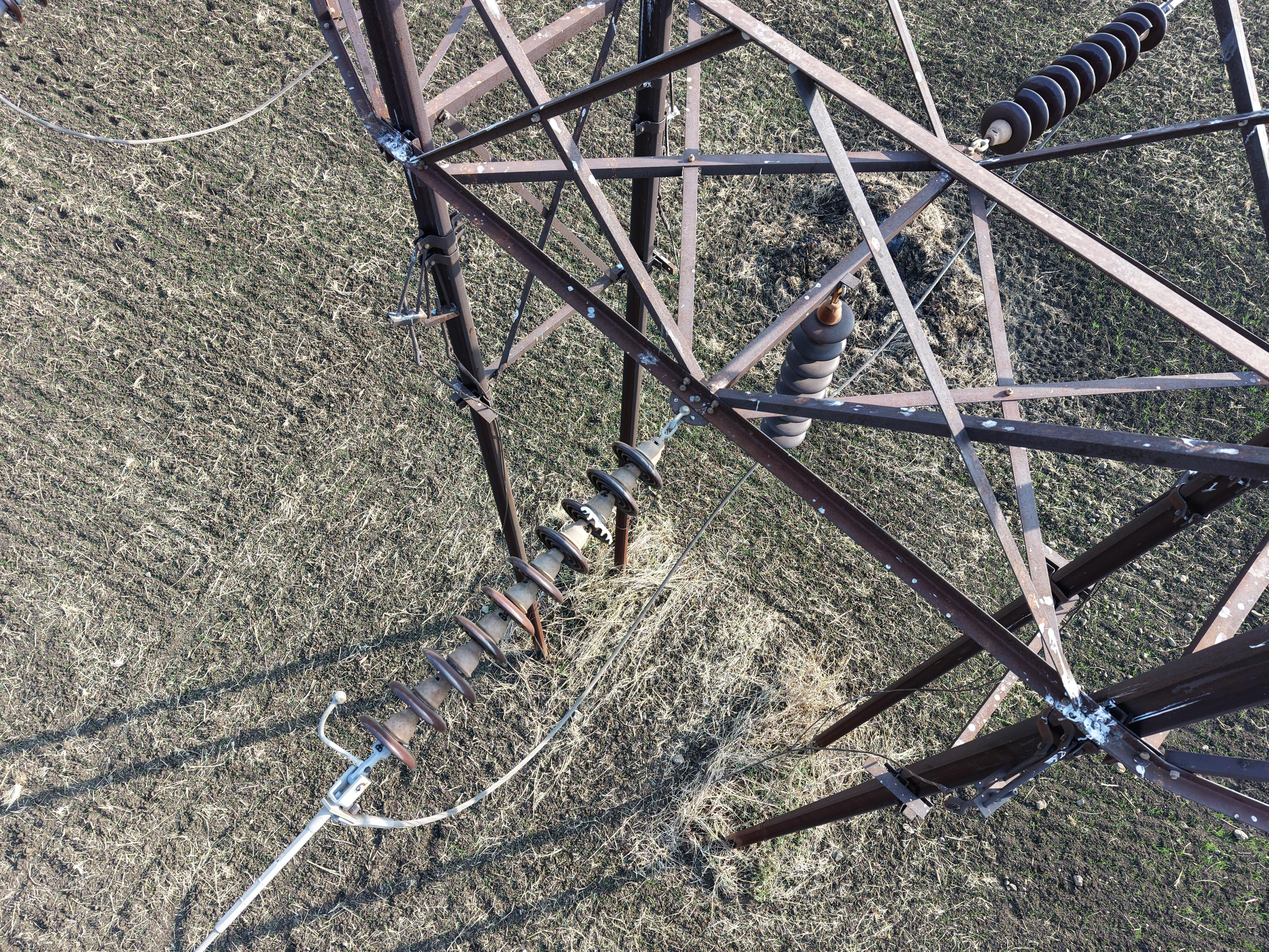broken_insulator: (560, 496, 624, 545), (1114, 11, 1154, 59)
